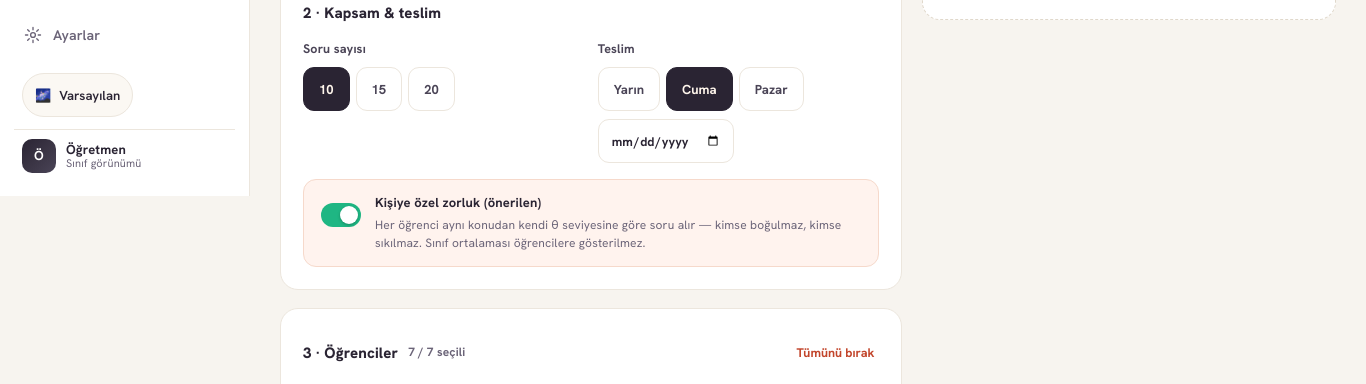
OdevAtamaPage › θ switch: kapatınca Özet zorluğu "Herkese aynı set" olur
(page scrolled)
Click the switch named "Kişiye özel zorluk" at (341, 215), box x1=319 y1=193 x2=363 y2=237
(page scrolled)
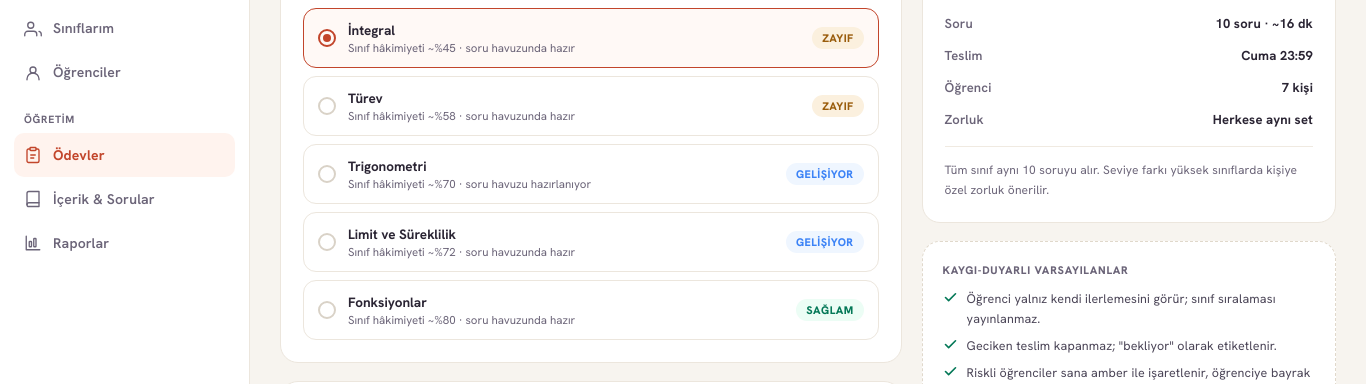
Expected: the text "Herkese aynı set" is shown, x1=1213 y1=110 x2=1313 y2=130
